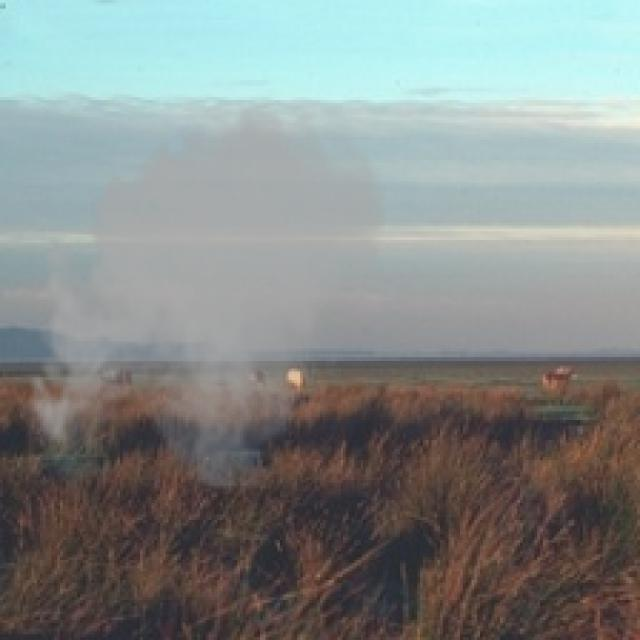Smoke: (17, 89, 394, 492)
